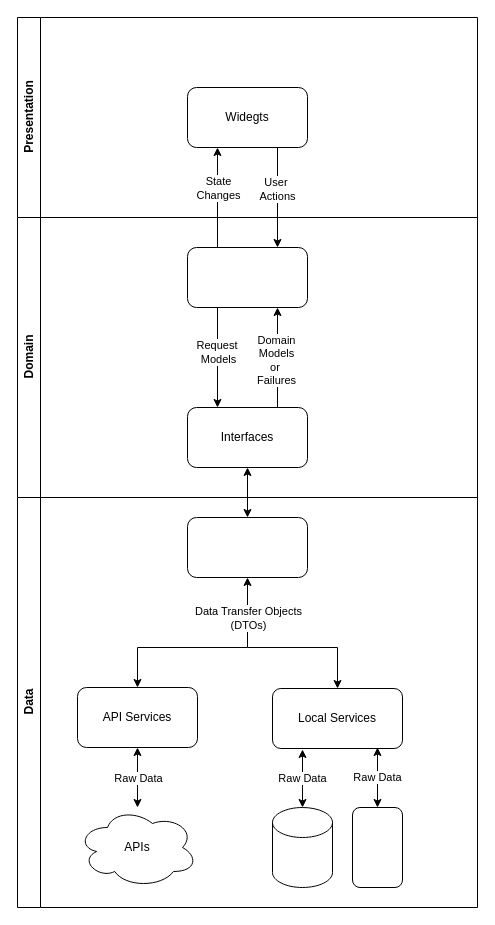
Image size: 495x925. Some labels were removed from this diagram. Each missing label, with the centre of its shape:
"BLoCs" belongs at pixel 247 277.
"Local Storage (DBs)" belongs at pixel 302 847.
"Mobile Services" belongs at pixel 377 847.
"Repositories" belongs at pixel 247 547.
